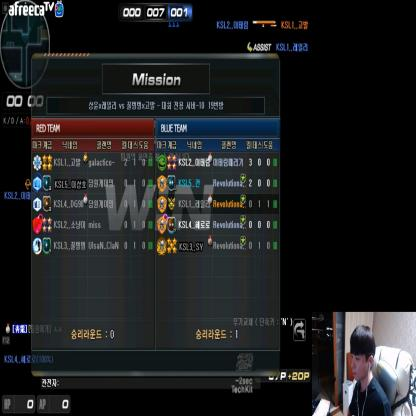streamer: (346, 324, 393, 416)
